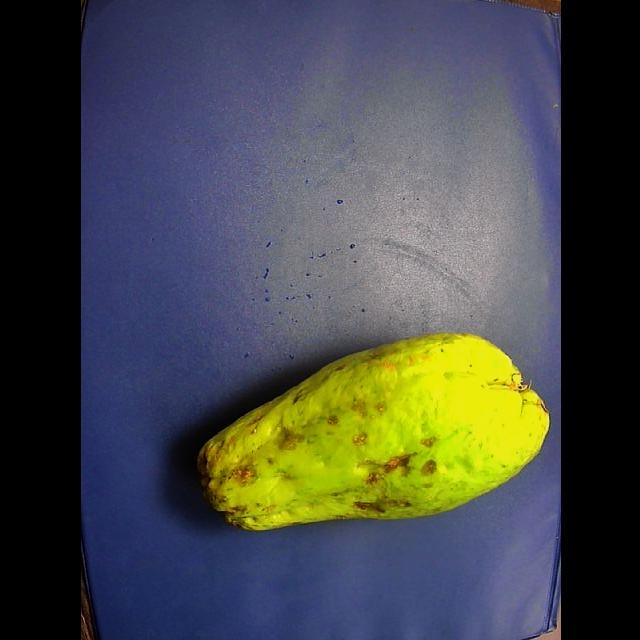chayote: (197, 333, 548, 530)
